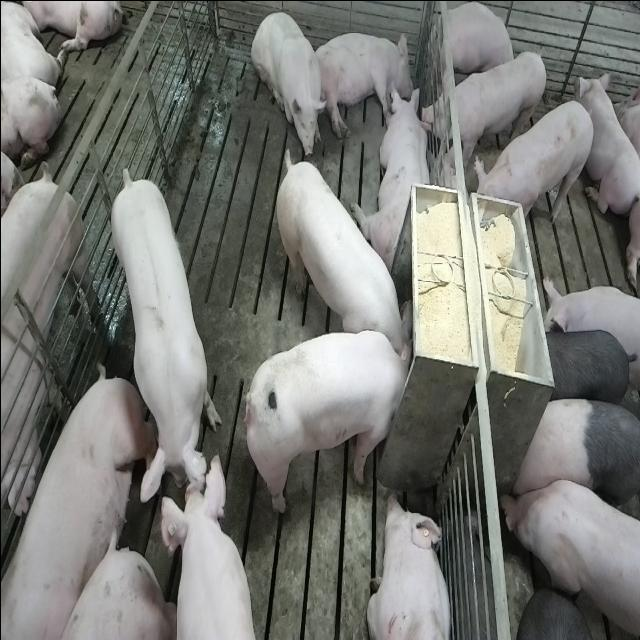Feeding: (248, 328, 421, 516), (272, 142, 408, 357)
Lateral_lying: (3, 366, 152, 640), (311, 28, 413, 137)
Sitting: (250, 6, 325, 158)
Standing: (107, 166, 220, 510), (0, 173, 98, 527), (500, 475, 637, 640), (153, 450, 256, 640), (472, 97, 596, 233), (510, 394, 638, 522), (421, 46, 548, 164), (530, 324, 638, 412)
Sternal_lying: (356, 80, 432, 266), (366, 490, 454, 640), (576, 70, 638, 222), (436, 2, 514, 86)
